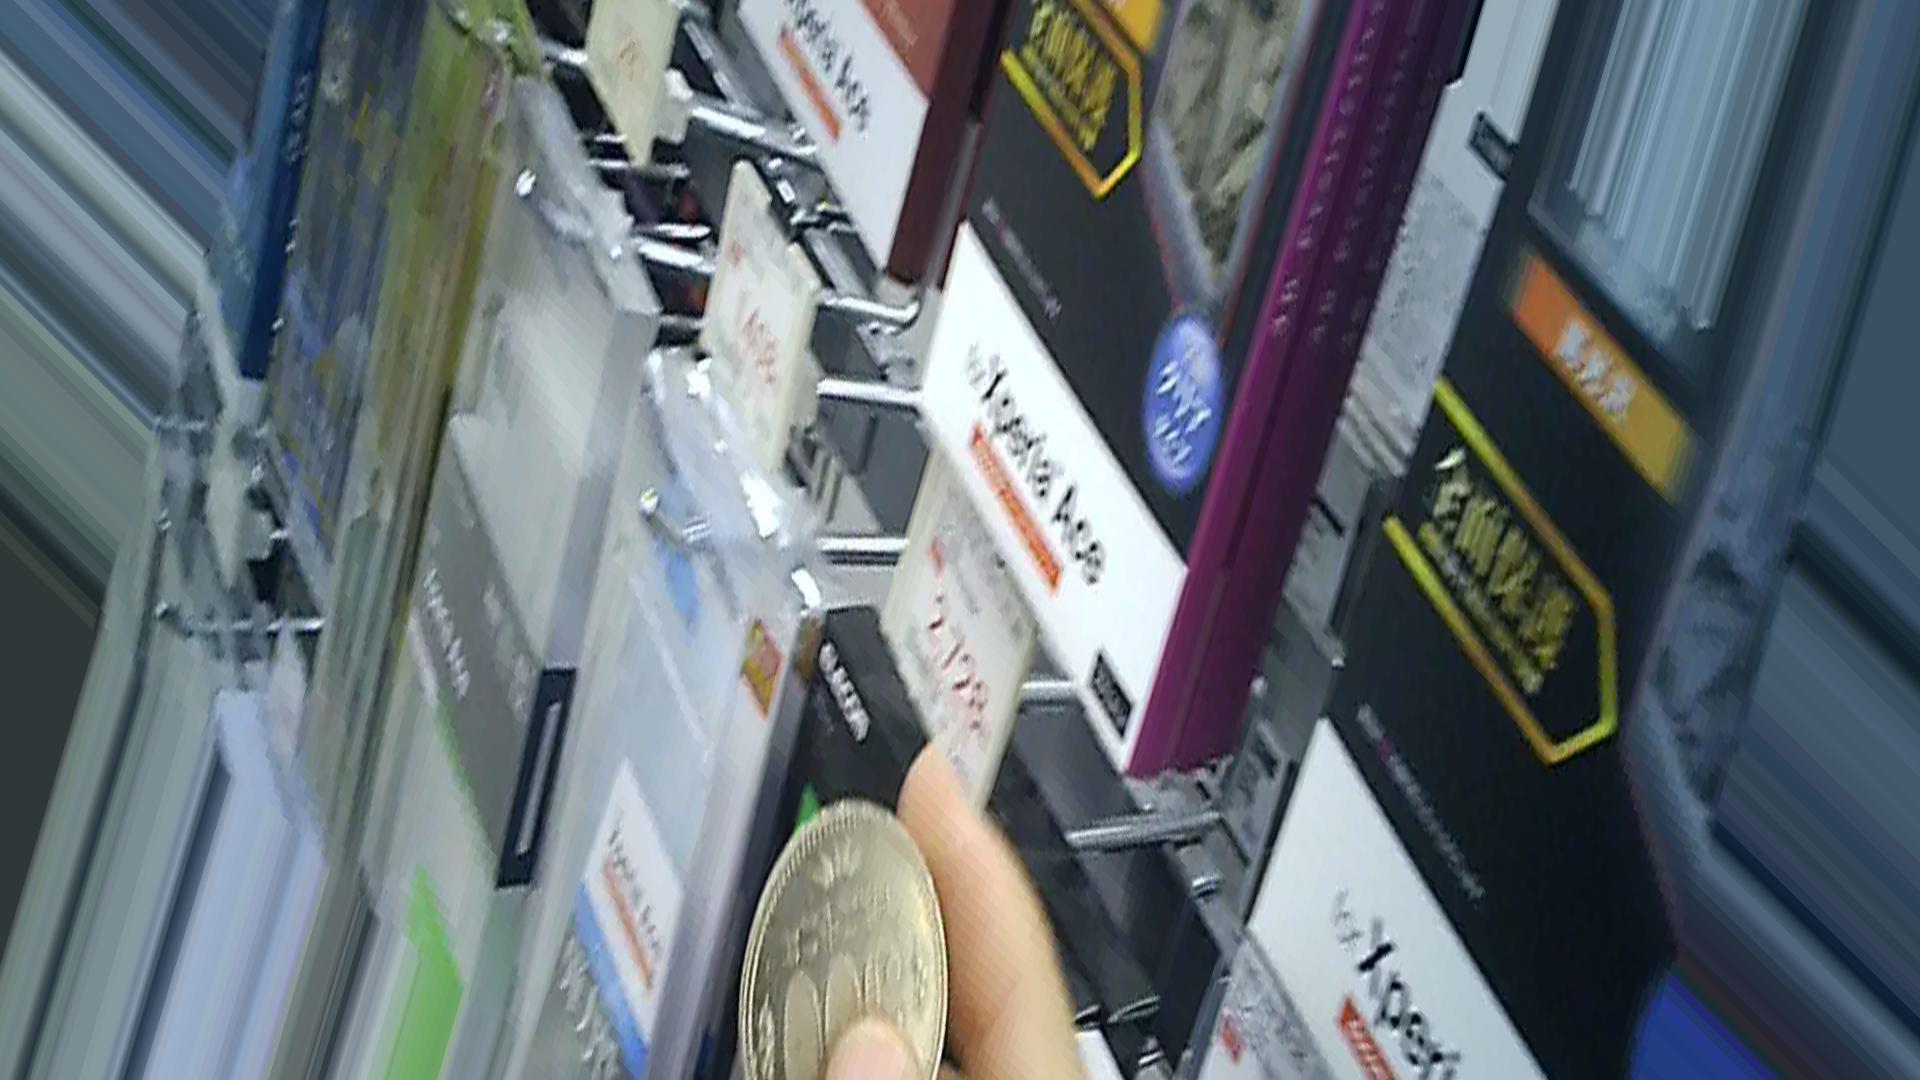500 Yen: (727, 814, 957, 1079)
